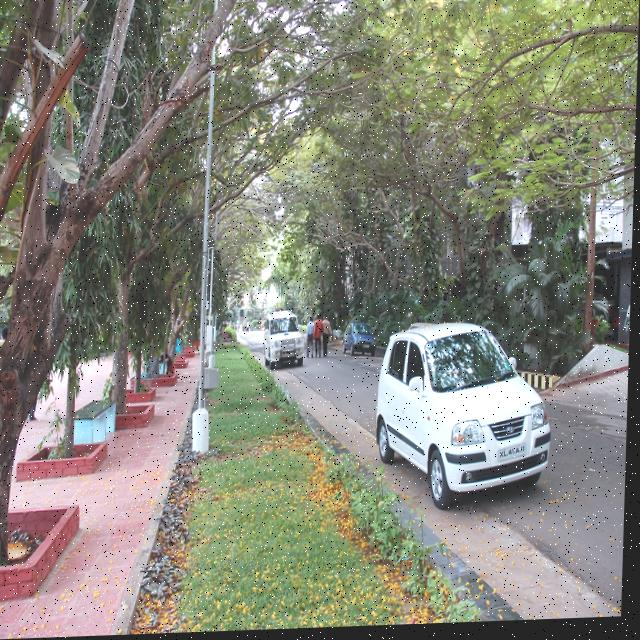plate: (500, 442, 532, 468)
